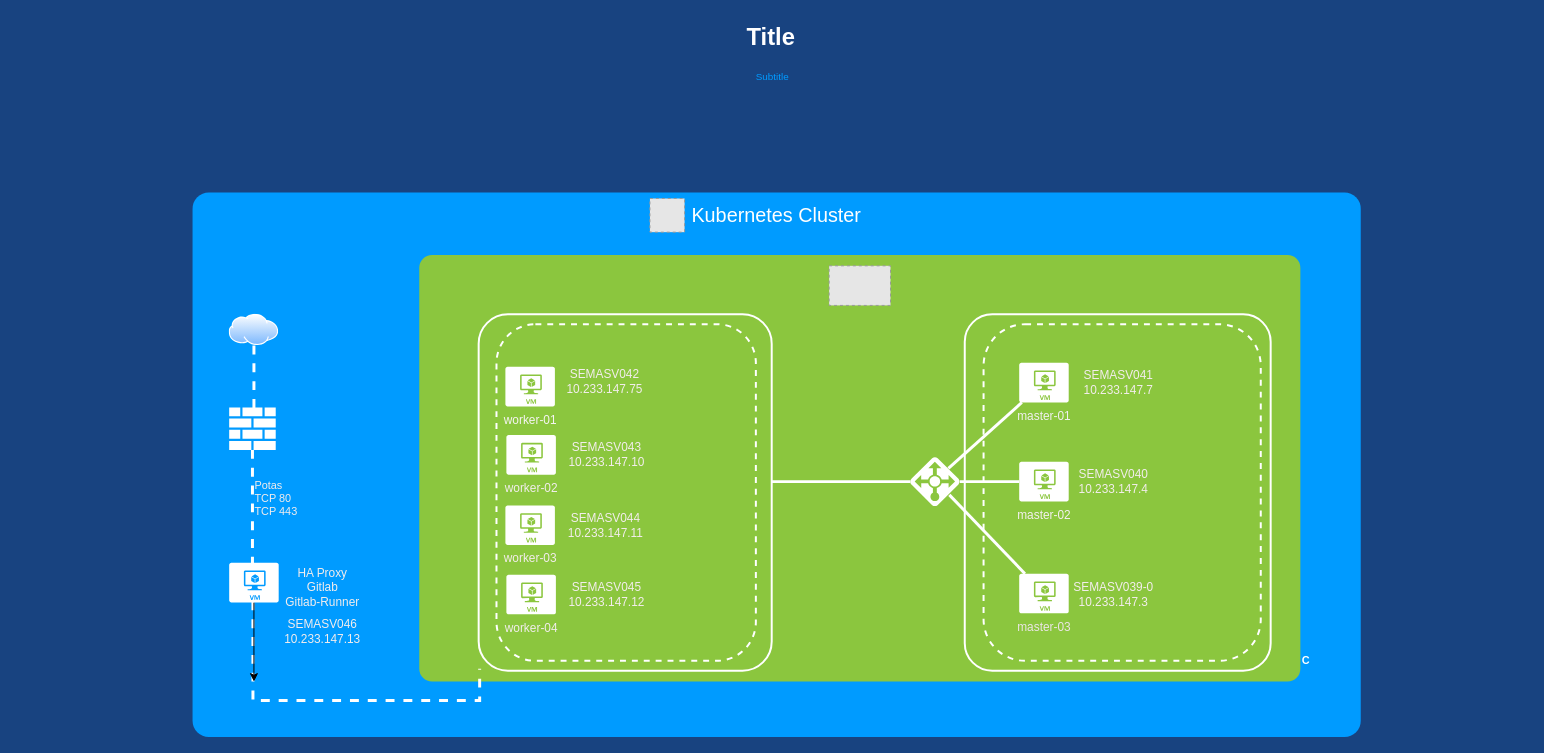
Image size: 1544x753. Some labels were removed from this diagram. Grey dashed boxes stand in for pictures. Each missing label, with the box of its shape:
Firewall SUTIC: (229, 407, 275, 449)
Internet: (229, 314, 278, 345)
Master Nodes: (982, 323, 1261, 661)
Worker Nodes: (495, 323, 756, 661)
